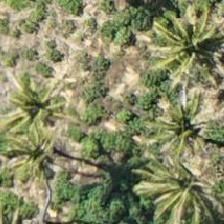coconut_tree: (0, 62, 83, 152), (0, 107, 78, 197), (146, 82, 223, 172), (143, 0, 223, 82), (141, 147, 223, 223)
